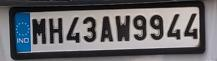3: (82, 16, 98, 43)
4: (165, 13, 183, 43), (184, 14, 201, 42), (66, 17, 82, 46)
9: (148, 14, 165, 41), (131, 14, 148, 41)
A: (100, 15, 115, 44)
H: (47, 17, 64, 45)
M: (30, 17, 47, 46)
W: (113, 13, 133, 43)
